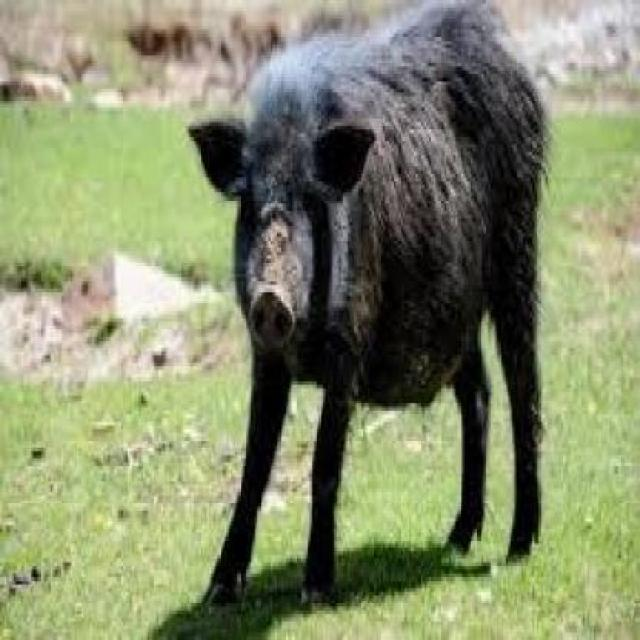wildboar: (184, 0, 558, 640)
